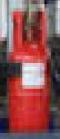cylinder: (1, 1, 60, 139)
